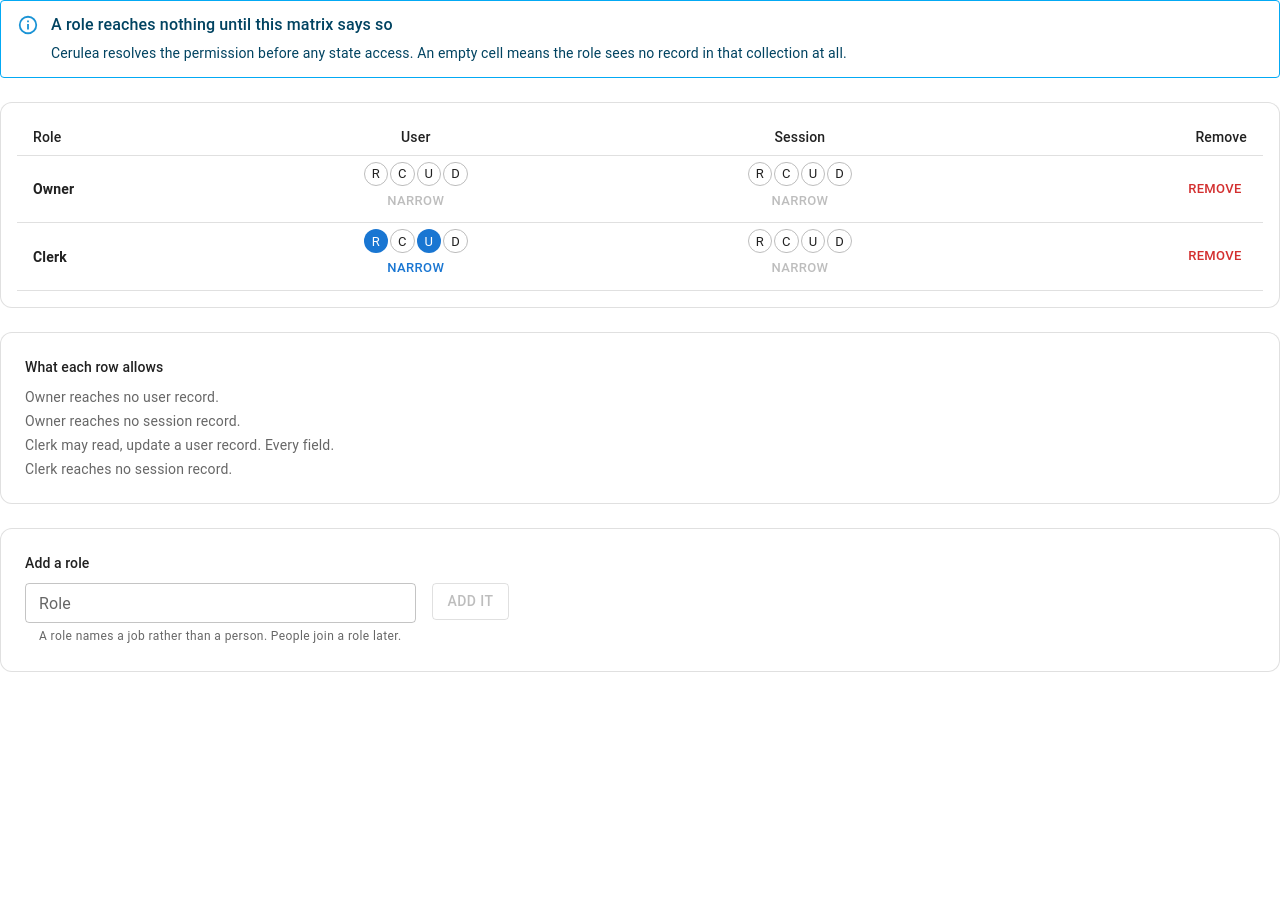
narrowing one cell › limits the rows to those the person owns
This screenshot has width=1280, height=900.
Click the 3rd button "Narrow": (416, 269) top-left (382, 253), bottom-right (449, 284)
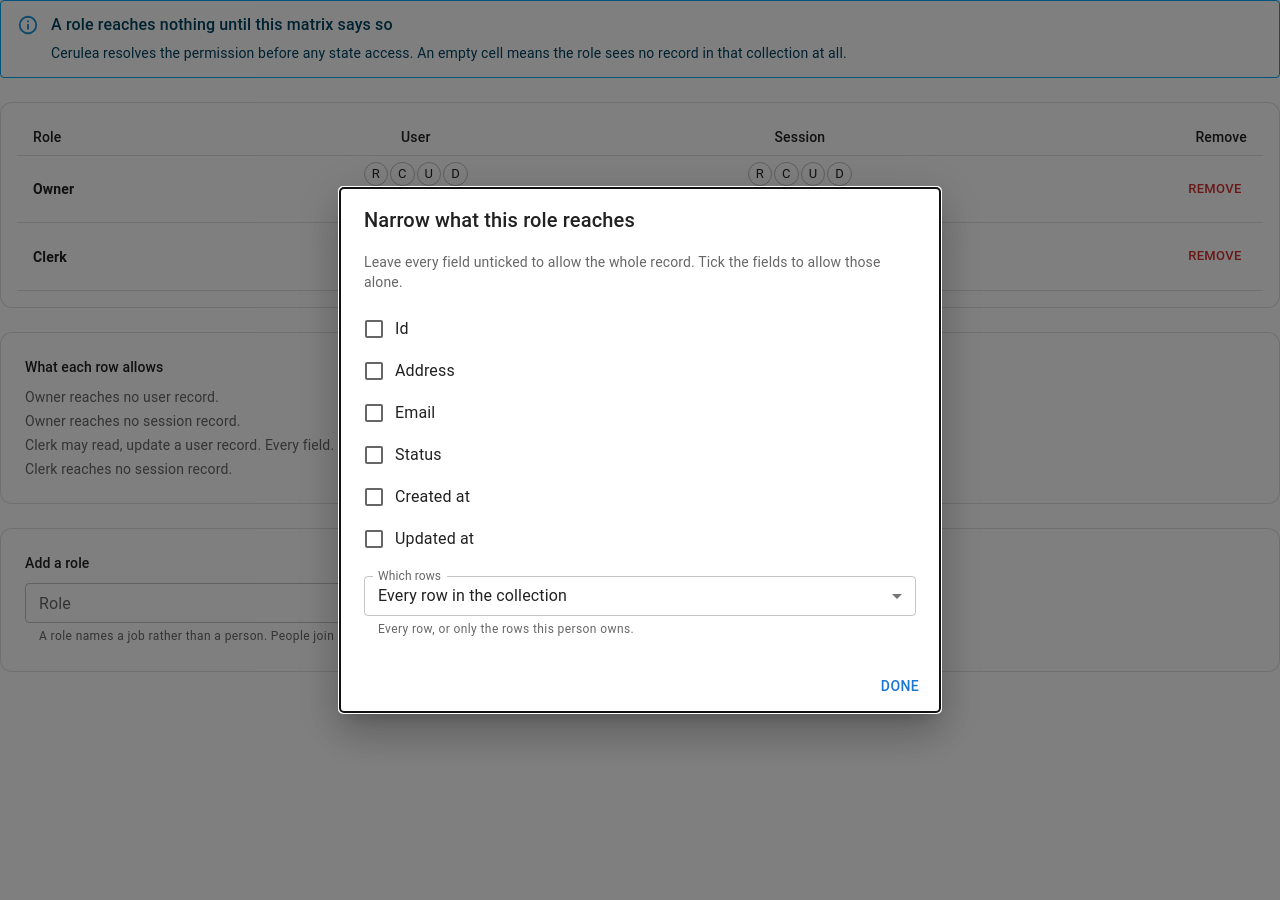
Press the mouse on the dropdown named "Which rows": (472, 596) top-left (378, 586), bottom-right (567, 605)
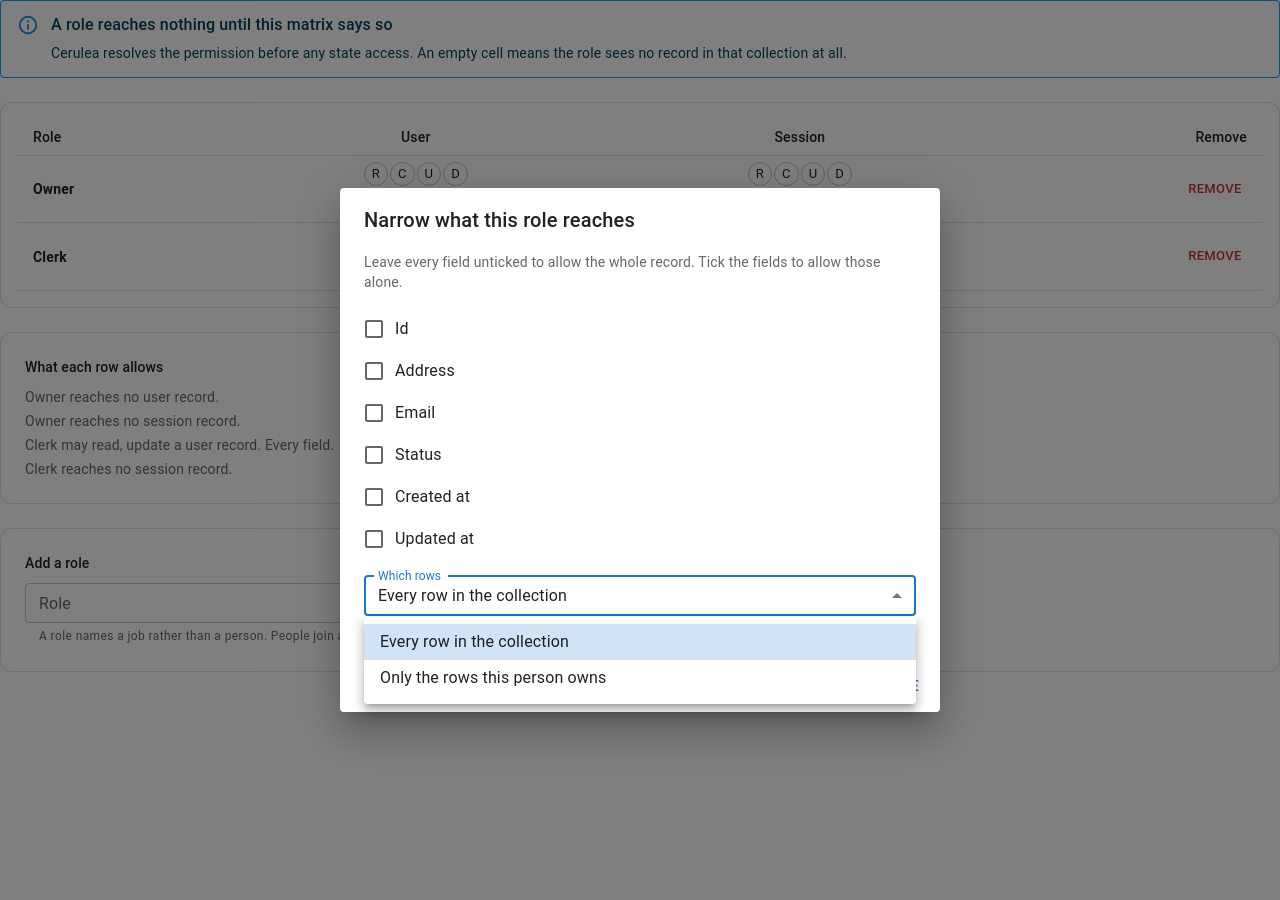
Click the option "Only the rows this person owns": (493, 678) top-left (380, 668), bottom-right (606, 687)
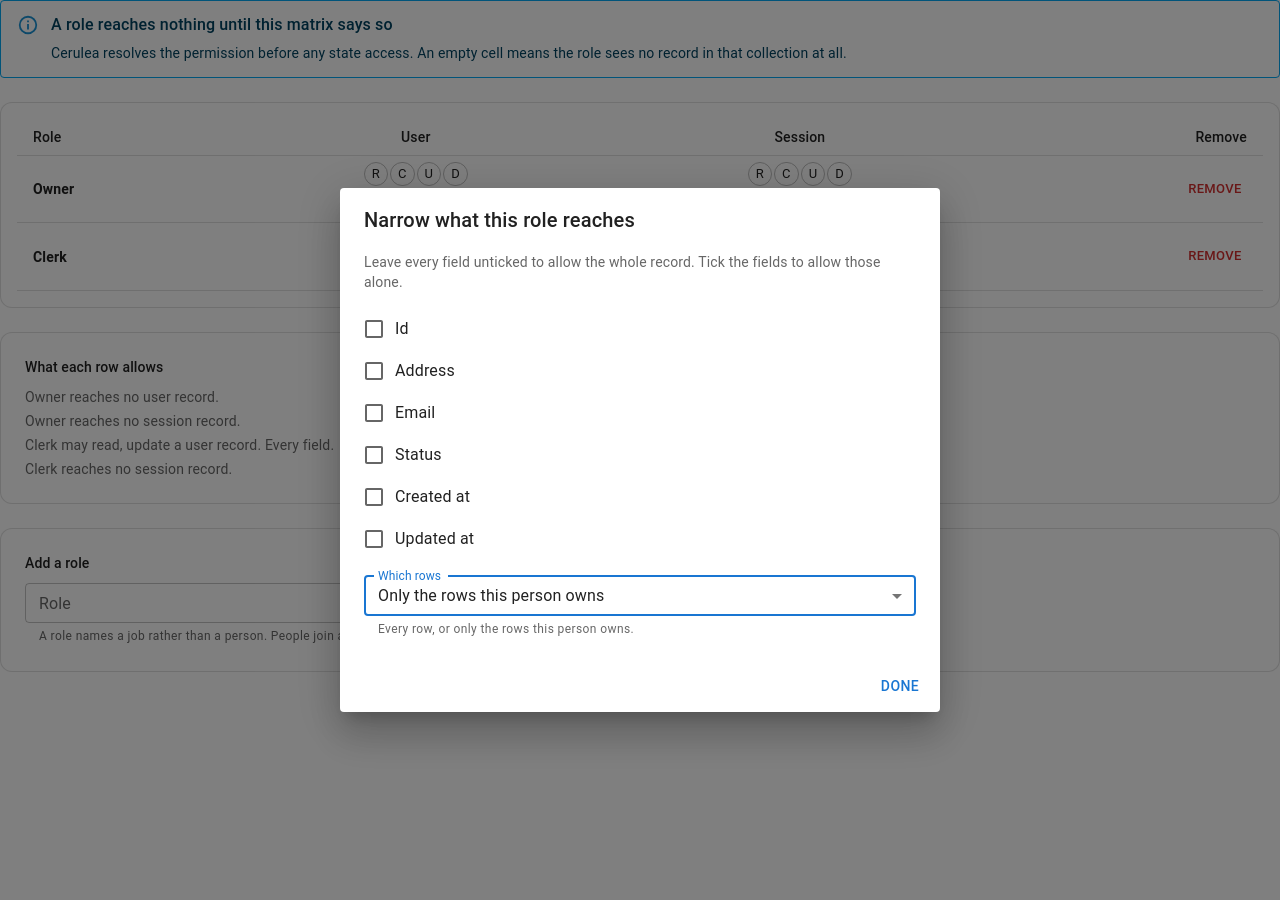
Result: the list is gone
Result: the dropdown named "Which rows" reads "Only the rows this person owns" at top-left (378, 586), bottom-right (604, 605)
